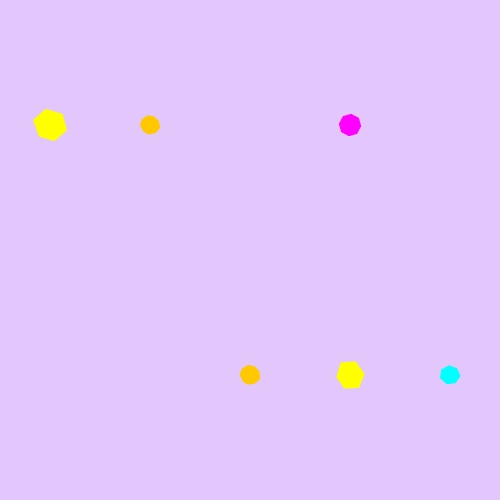heptagon: (436, 361, 465, 389)
hexagon: (29, 107, 72, 143), (331, 359, 370, 392)
nonagon: (136, 111, 165, 139), (236, 361, 265, 389)
octagon: (335, 110, 366, 141)
